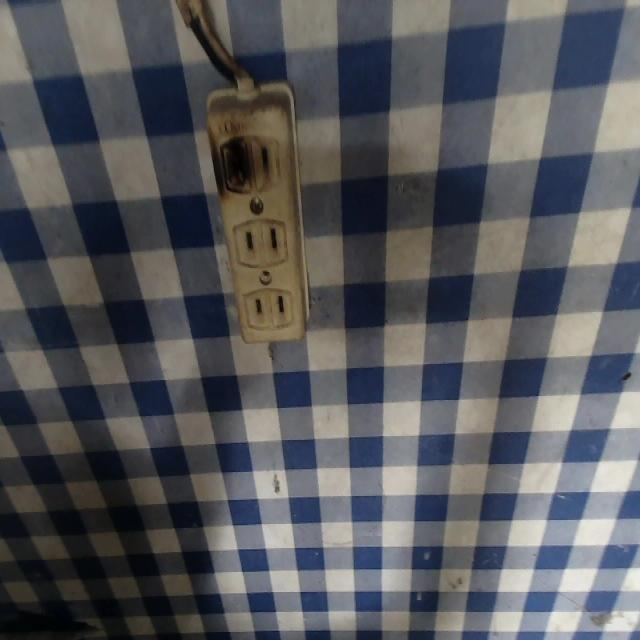-: (210, 127, 253, 205)
